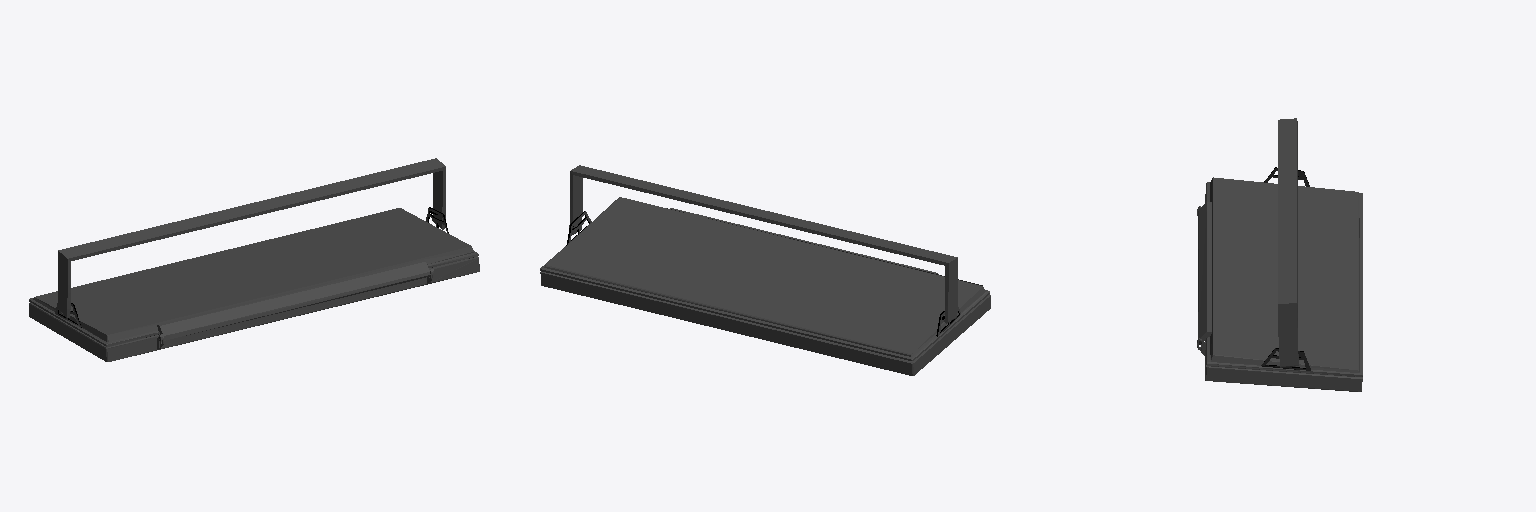
The model's file is zhaoming-zhongjian.obj.
3 views of the same model, side by side, from view 1: azimuth 30°, elevation 25°; view 2: azimuth 150°, elevation 25°; view 3: azimuth 270°, elevation 25° (orthographic).
Visible parts, largest first — view 1: Obj3d66_636233_3105_107; view 2: Obj3d66_636233_3105_107; view 3: Obj3d66_636233_3105_107.
Boxes of the visible parts, box(x1,y1,x2,y2) form: Obj3d66_636233_3105_107: box(29, 158, 479, 361); Obj3d66_636233_3105_107: box(540, 165, 990, 375); Obj3d66_636233_3105_107: box(1197, 118, 1362, 391).
Size of the model in its own units: 1094 by 251 by 416.